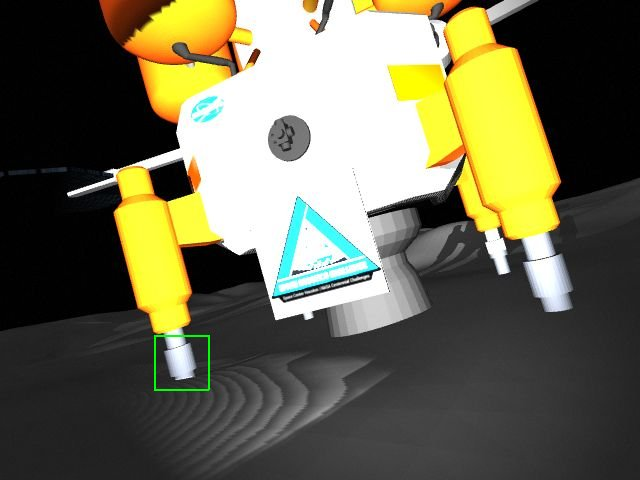basemarker: (271, 195, 382, 302)
